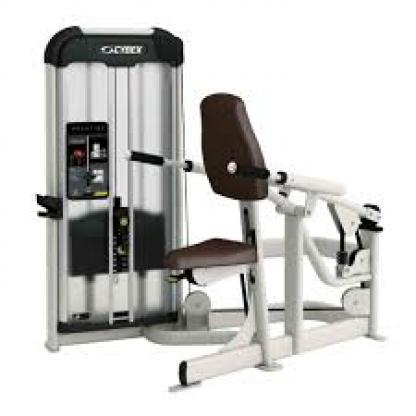seated dip machine: (20, 15, 392, 393)
